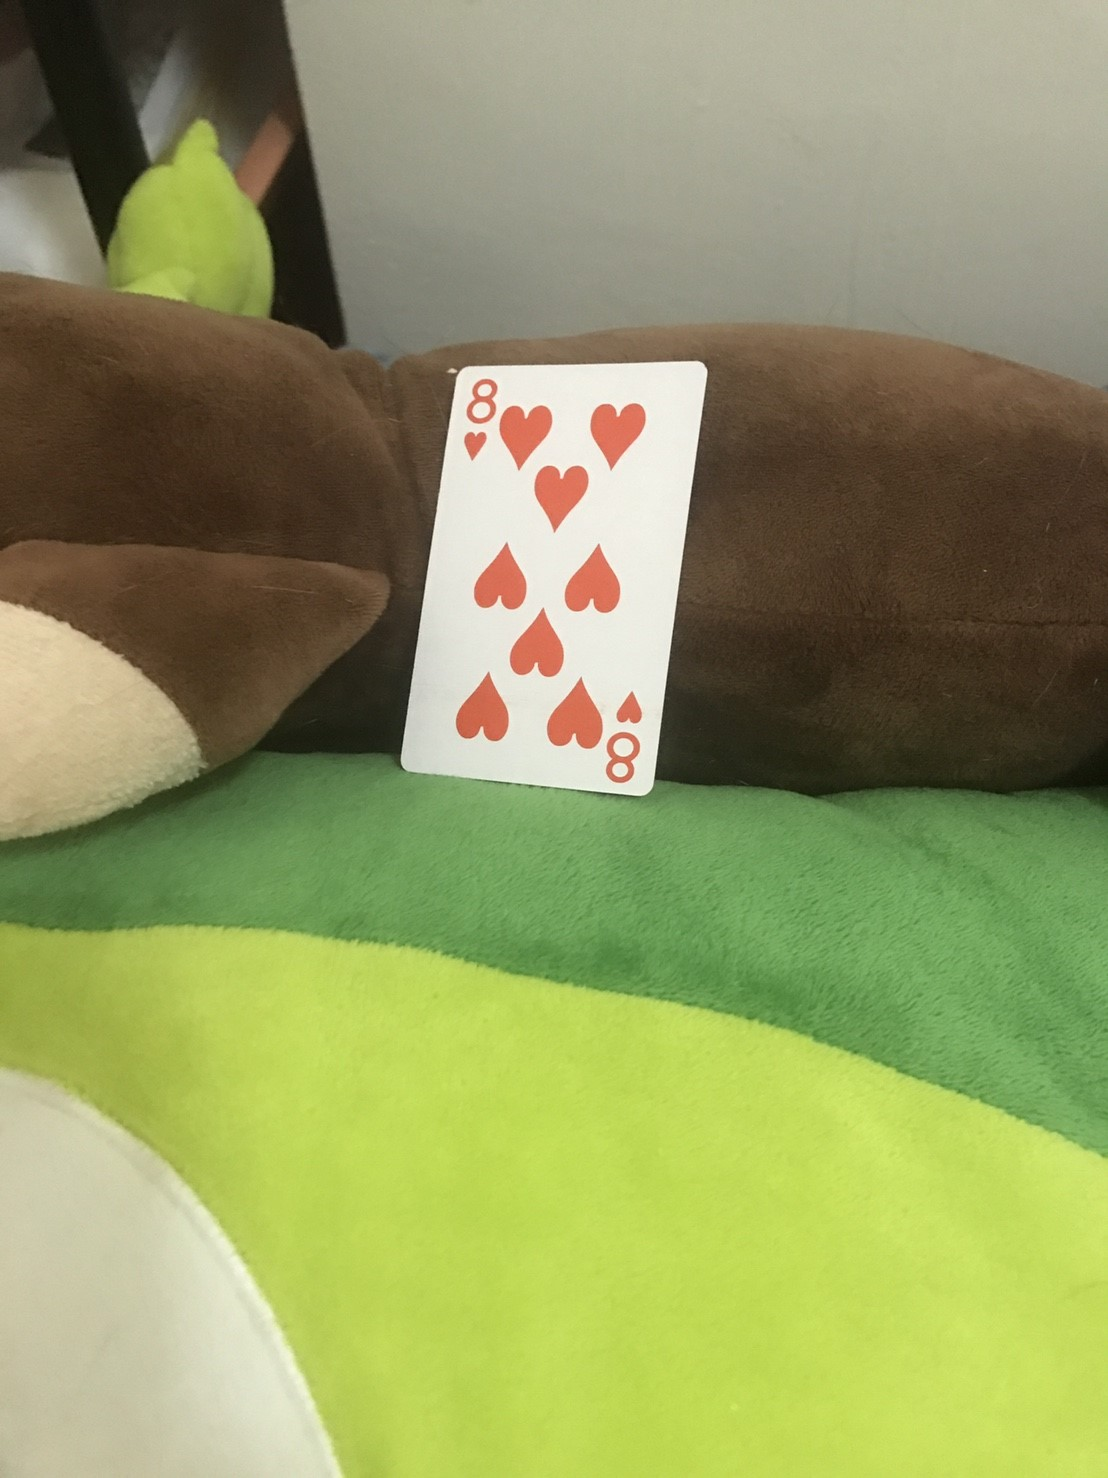hearts: (584, 400, 660, 476), (541, 672, 608, 756), (564, 542, 634, 618), (448, 669, 517, 745), (467, 542, 537, 614), (527, 464, 591, 533), (493, 399, 553, 472), (511, 607, 570, 678), (608, 688, 649, 730), (459, 426, 493, 462)
